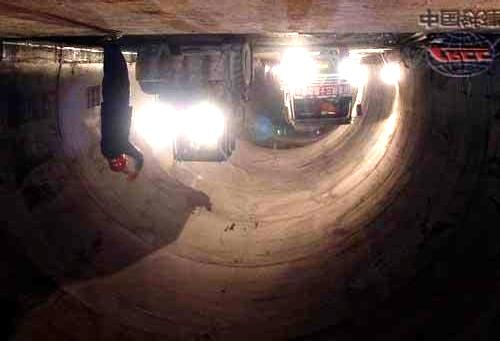helmet: (107, 153, 128, 173)
